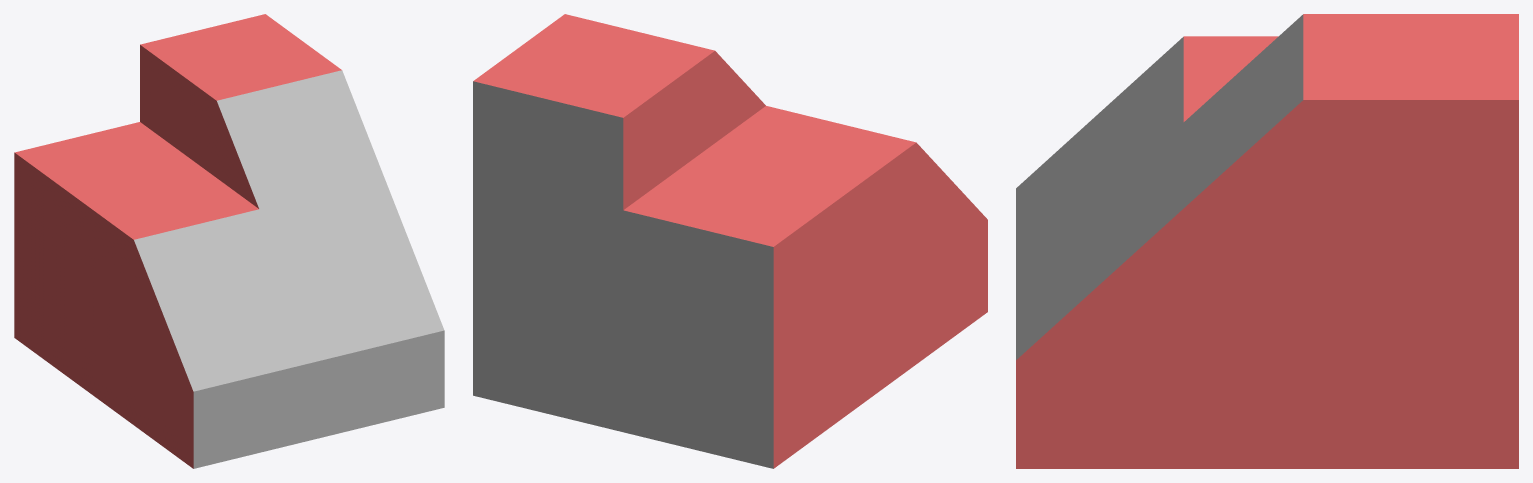
The model's file is tenkaizu3.glb.
The picture shows the model from 3 angles, left to right: view 1: azimuth 30°, elevation 25°; view 2: azimuth 150°, elevation 25°; view 3: azimuth 270°, elevation 25°; orthographic projection. The views are drawn at different scales.
Parts seen in each view (by area): view 1: tenkaizu3.SLDPRT; view 2: tenkaizu3.SLDPRT; view 3: tenkaizu3.SLDPRT.
Part boxes in pixels (x1=…): tenkaizu3.SLDPRT: x1=14, y1=14, x2=444, y2=468; tenkaizu3.SLDPRT: x1=473, y1=14, x2=987, y2=468; tenkaizu3.SLDPRT: x1=1016, y1=14, x2=1518, y2=468.
Size of the model in its own units: 0.017 by 0.017 by 0.021.
